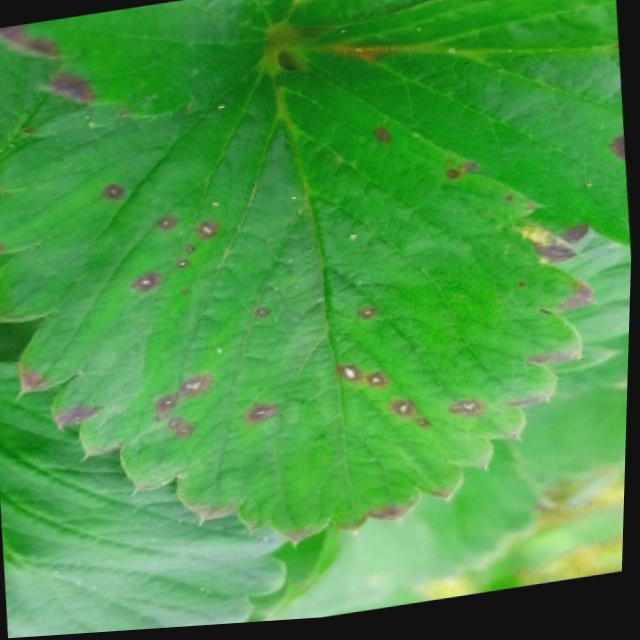Leaf Spot: (0, 55, 599, 548), (280, 0, 632, 261)
